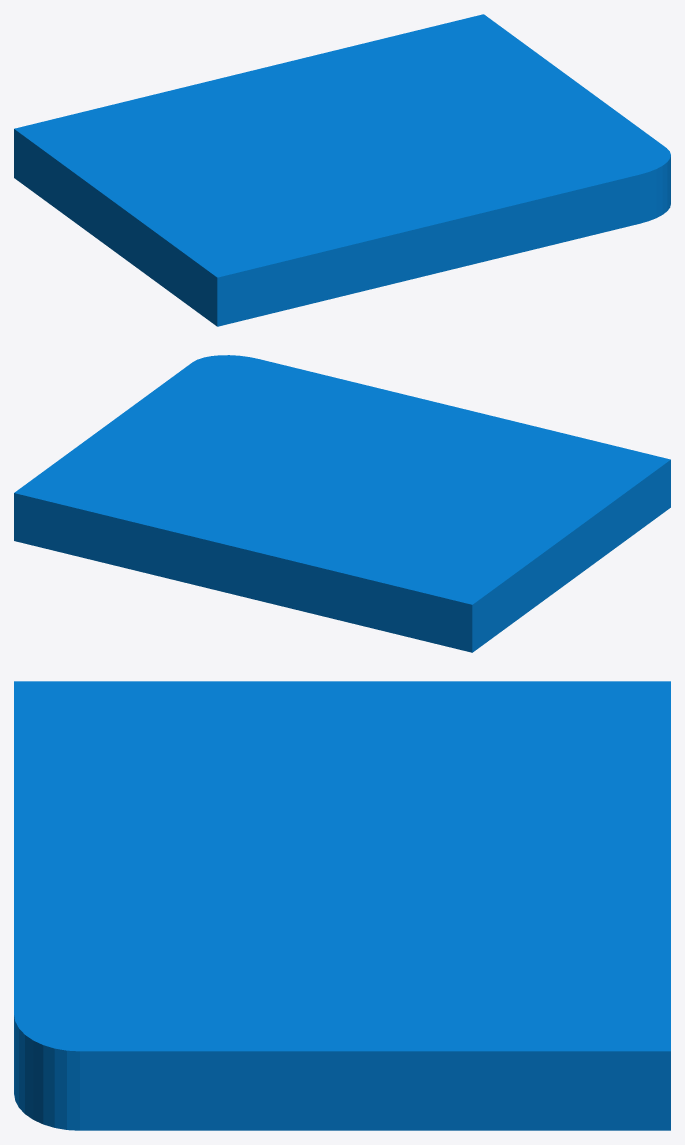
File: blue finance board.fbx
3 renders of one model, top to bottom at view 1: azimuth 30°, elevation 25°; view 2: azimuth 150°, elevation 25°; view 3: azimuth 270°, elevation 25°, orthographic. The views are drawn at different scales.
Visible parts, largest first — view 1: Cube.003; view 2: Cube.003; view 3: Cube.003.
Boxes of the visible parts, bbox=[...] form: Cube.003: bbox=[14, 14, 670, 326]; Cube.003: bbox=[14, 355, 670, 652]; Cube.003: bbox=[14, 681, 670, 1130].
Size of the model in its own units: 200 by 20 by 150.
